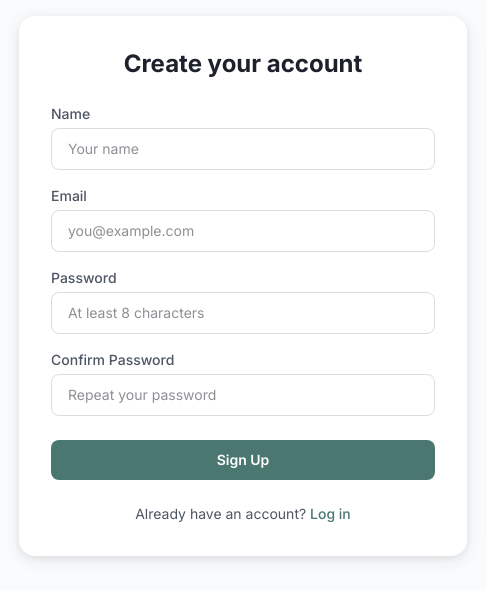
Test case: SignupPage › shows error when password too short
The image size is (487, 591).
In the field labelled "Name": [243, 149] box left=51, top=128, right=435, bottom=170, type "Imane"
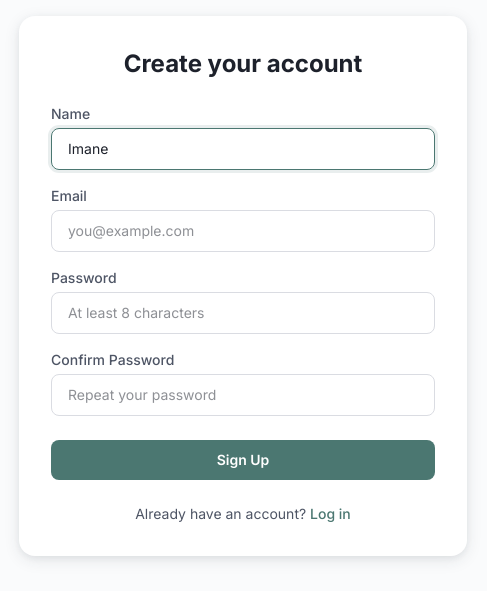
In the field labelled "Email": [243, 231] box left=51, top=210, right=435, bottom=252, type "imane@example.com"
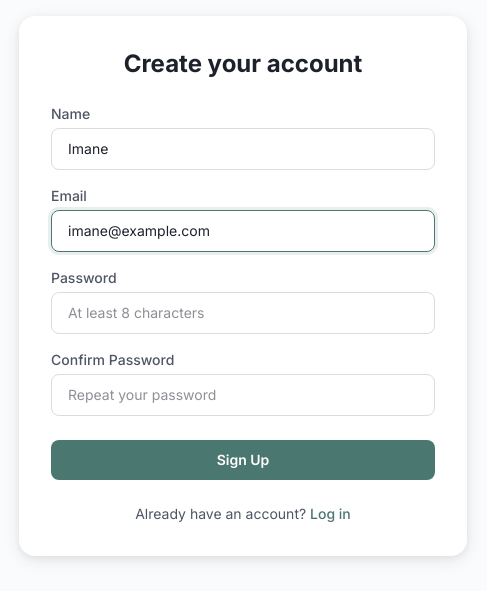
In the password field labelled "Password": [243, 313] box left=51, top=292, right=435, bottom=334, type "Ab1"
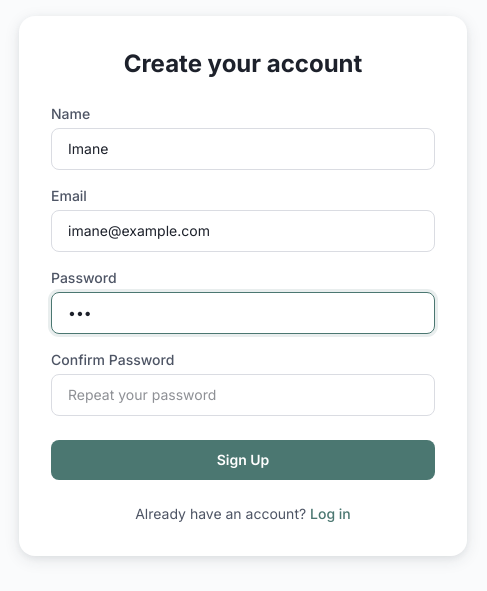
In the password field labelled "Confirm Password": [243, 395] box left=51, top=374, right=435, bottom=416, type "Ab1"
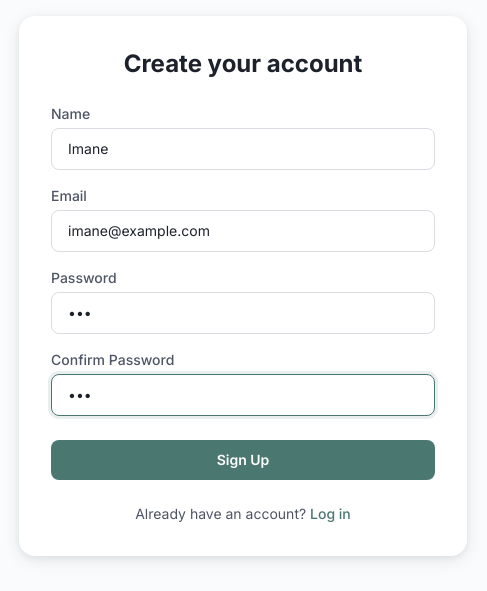
Click the button "Sign Up": [243, 460] box left=51, top=440, right=435, bottom=480
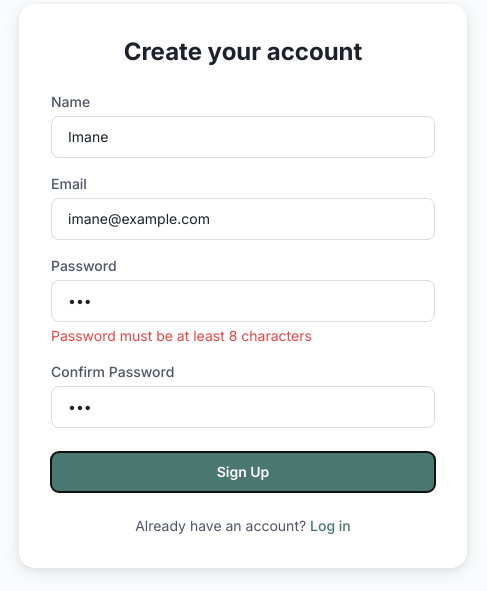
Result: the text "Password must be at least 8 characters" is shown at left=51, top=327, right=312, bottom=344
